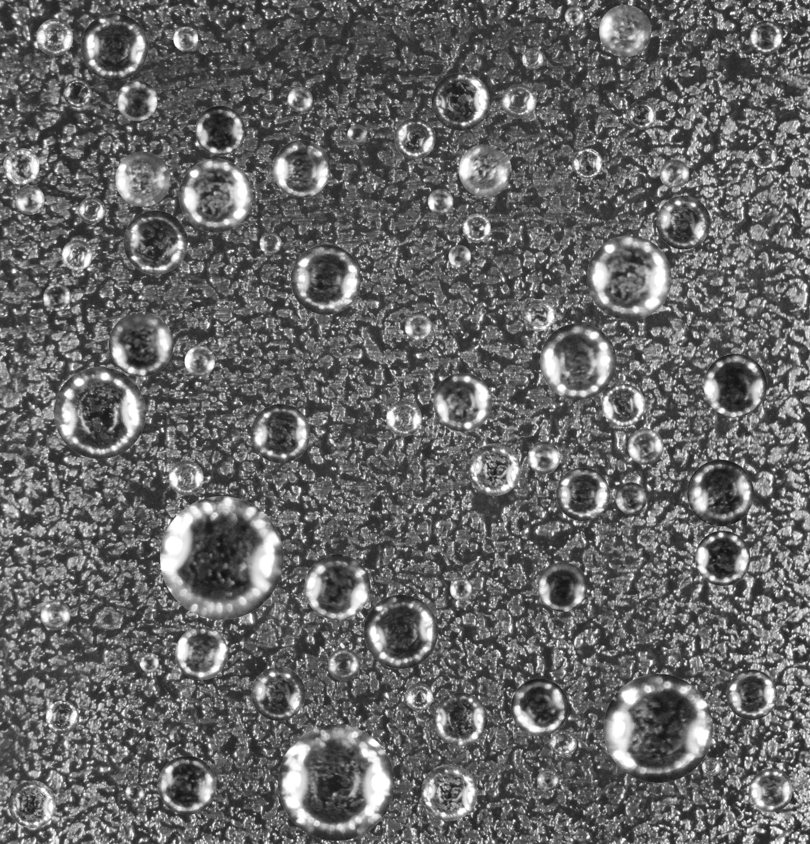Bubble: (160, 496, 283, 619), (278, 724, 394, 840), (603, 673, 712, 782), (53, 367, 145, 458), (587, 235, 671, 320), (540, 323, 616, 399), (363, 594, 437, 668), (178, 158, 252, 232), (290, 244, 360, 314), (80, 13, 148, 80), (687, 459, 753, 526), (304, 554, 370, 620), (108, 312, 173, 376), (703, 353, 767, 417), (123, 210, 187, 274), (251, 404, 310, 463), (157, 756, 216, 814), (433, 373, 491, 431), (431, 72, 489, 130), (272, 140, 330, 197), (511, 678, 568, 736), (421, 764, 477, 820), (695, 530, 750, 585), (115, 151, 170, 206), (433, 692, 487, 746), (656, 195, 710, 249), (251, 667, 305, 720), (556, 467, 609, 521), (458, 144, 511, 196), (175, 627, 228, 679), (468, 443, 520, 495), (599, 4, 651, 56), (726, 669, 777, 720), (195, 105, 244, 155), (538, 562, 587, 611), (8, 780, 55, 828), (749, 768, 792, 812), (602, 383, 645, 426), (394, 118, 435, 158), (116, 80, 157, 120), (36, 18, 73, 55), (627, 428, 663, 464), (3, 148, 39, 184), (386, 400, 421, 436), (168, 460, 203, 495), (501, 84, 536, 118), (45, 700, 78, 733), (750, 20, 783, 53), (327, 648, 360, 680), (527, 441, 560, 473), (615, 482, 647, 514), (522, 299, 554, 331), (61, 239, 92, 270), (184, 346, 214, 376), (40, 600, 70, 630), (572, 148, 602, 178), (659, 159, 689, 188), (15, 185, 44, 214), (627, 100, 656, 129), (63, 79, 91, 107), (462, 213, 490, 241), (405, 682, 432, 710), (404, 313, 432, 340), (43, 283, 70, 310), (78, 197, 104, 223), (550, 730, 576, 756), (427, 189, 453, 214), (173, 26, 198, 51), (287, 87, 312, 112), (752, 143, 776, 168), (449, 578, 471, 600), (448, 245, 470, 267), (259, 232, 281, 254), (537, 769, 558, 791), (522, 48, 543, 69), (125, 782, 145, 802), (347, 124, 367, 144), (139, 653, 158, 672), (564, 6, 583, 25), (702, 757, 720, 776)
